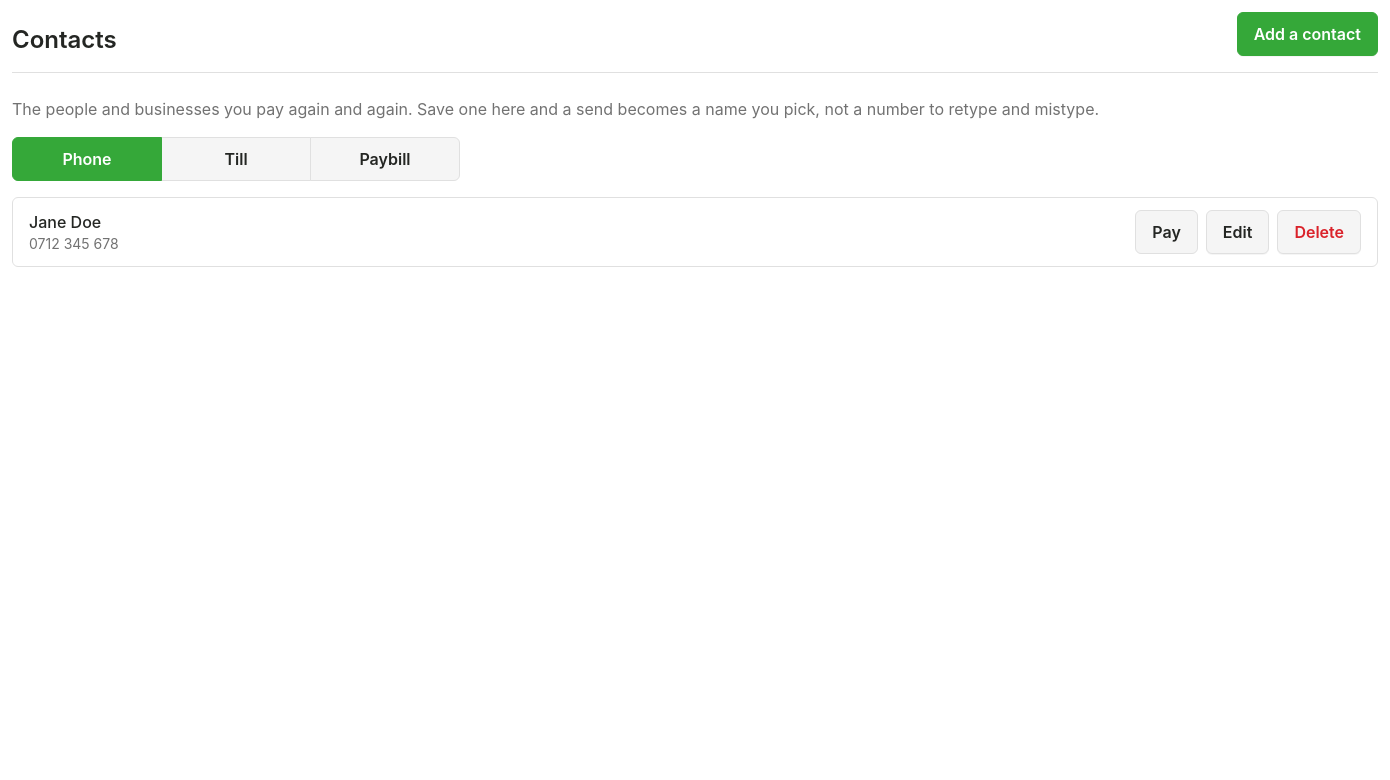
Test case: Contacts › shows the server refusal when the name is already taken
The width and height of the screenshot is (1390, 780).
Expected: the text "Jane Doe" is shown, [29,212,101,232]
Step 1. Click the button "Add a contact" → (1307,34), box [1237,12,1378,56]
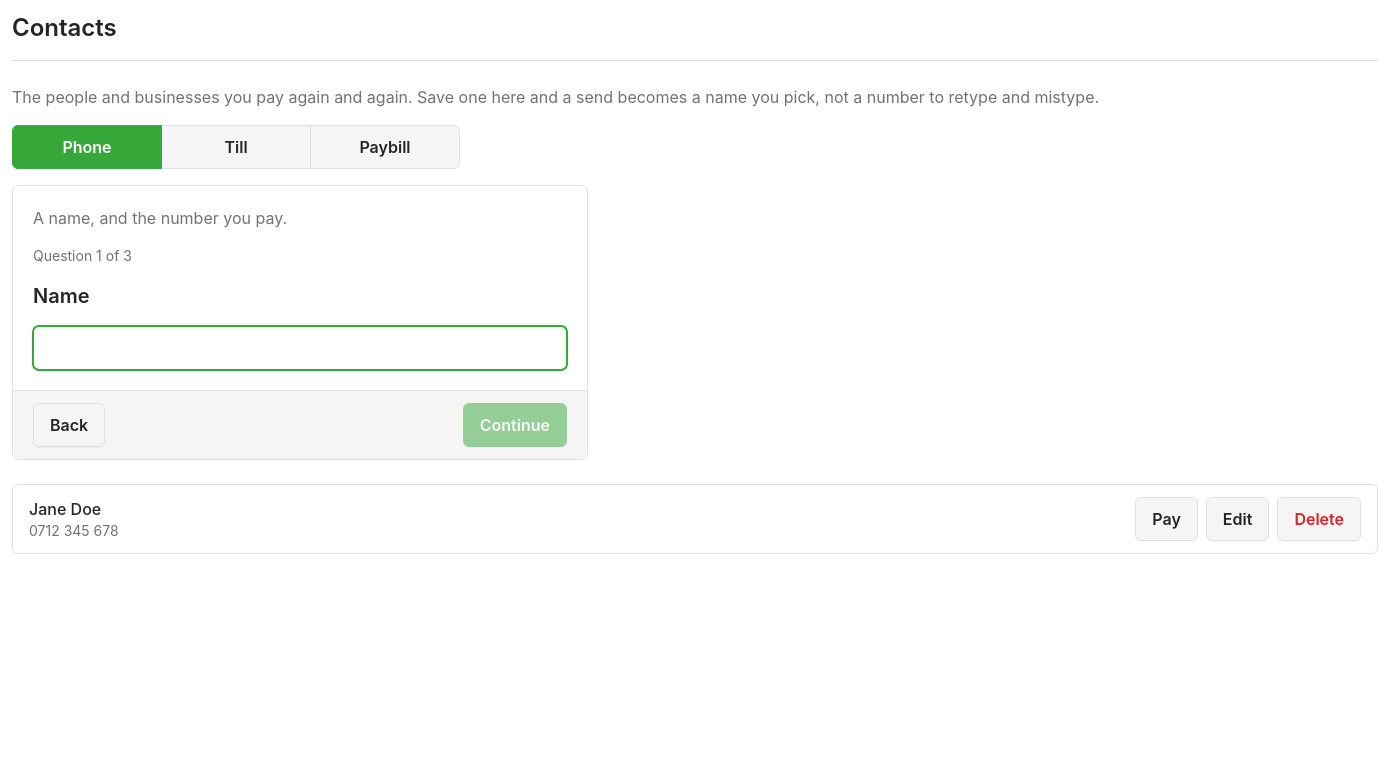
Step 2. Type "Jane Doe" into the field named "Name" → (300,348), box [33,326,567,370]
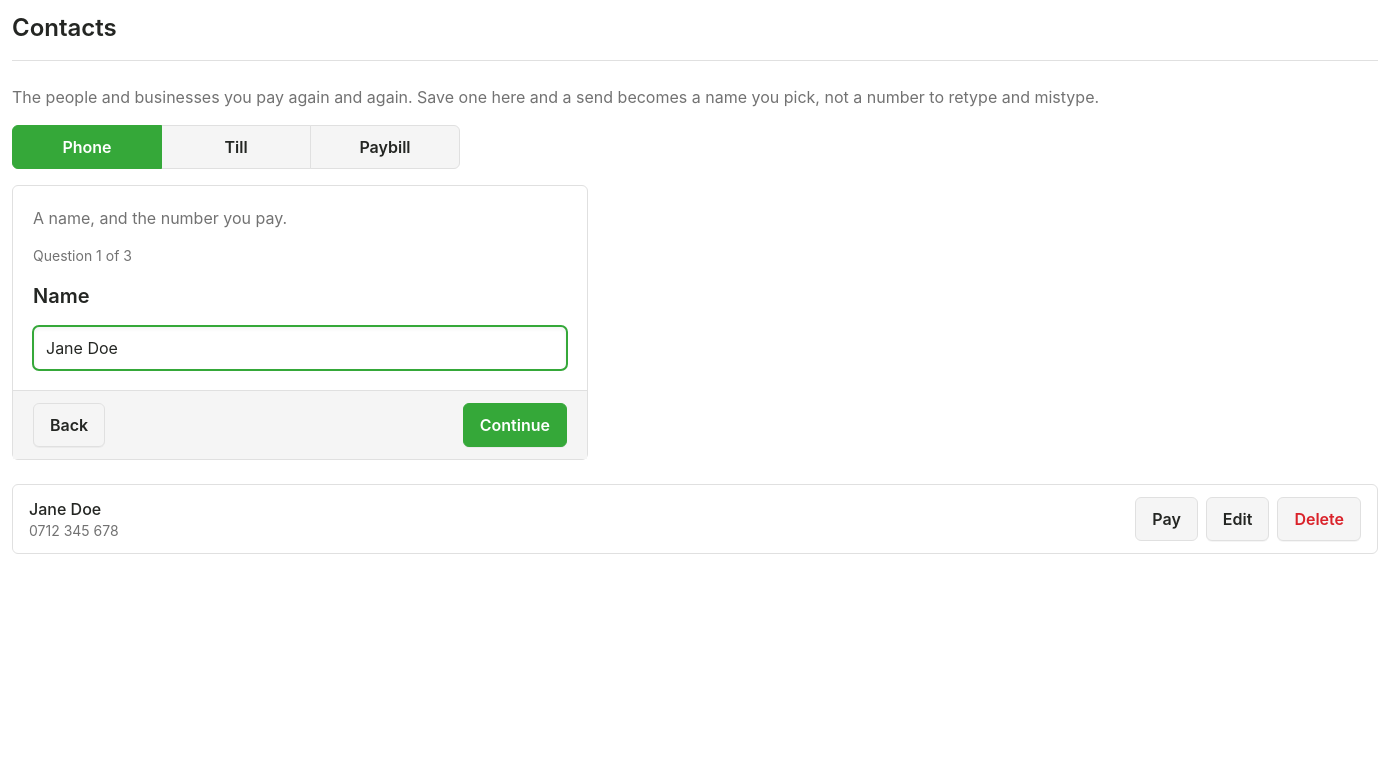
Step 3. Click the button "Continue" → (515,425), box [463,403,567,447]
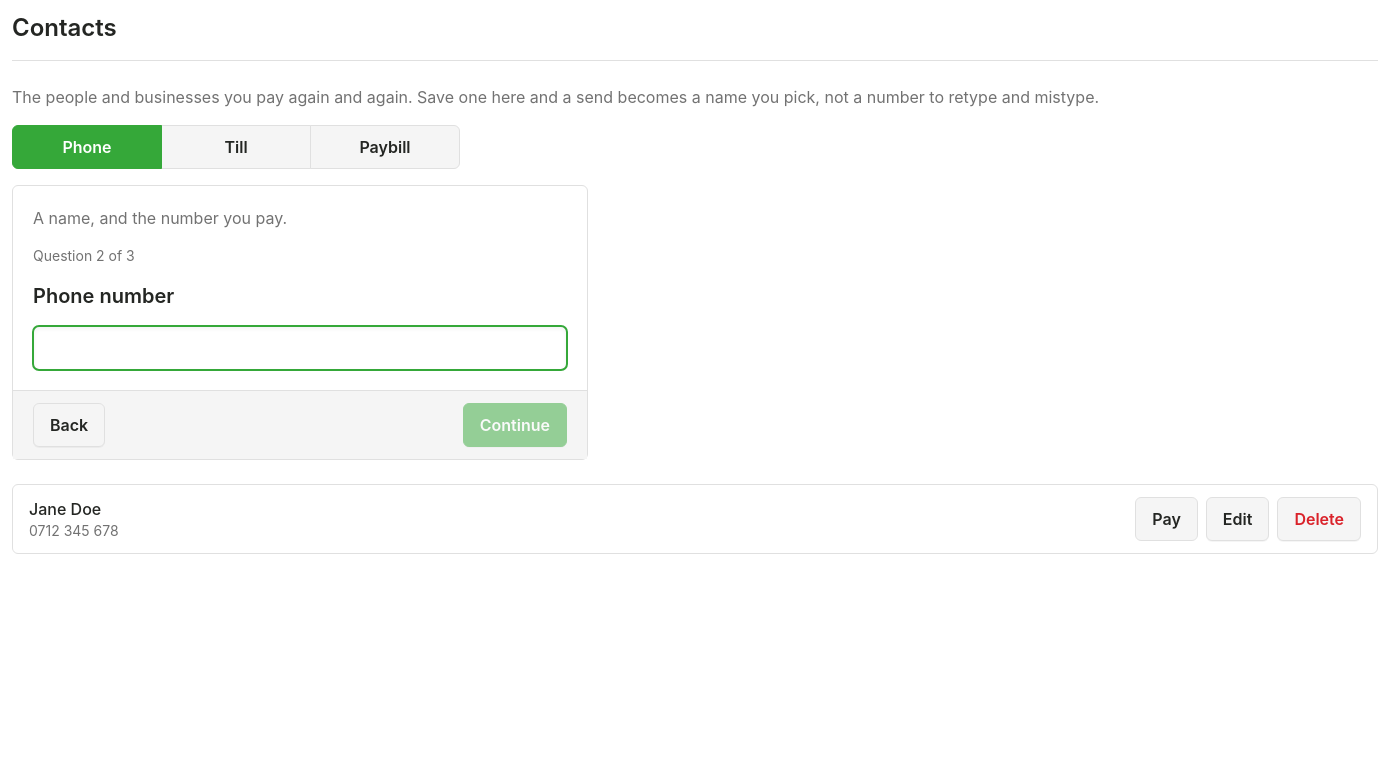
Step 4. Type "0712 000 111" into the field named "Phone number" → (300,348), box [33,326,567,370]
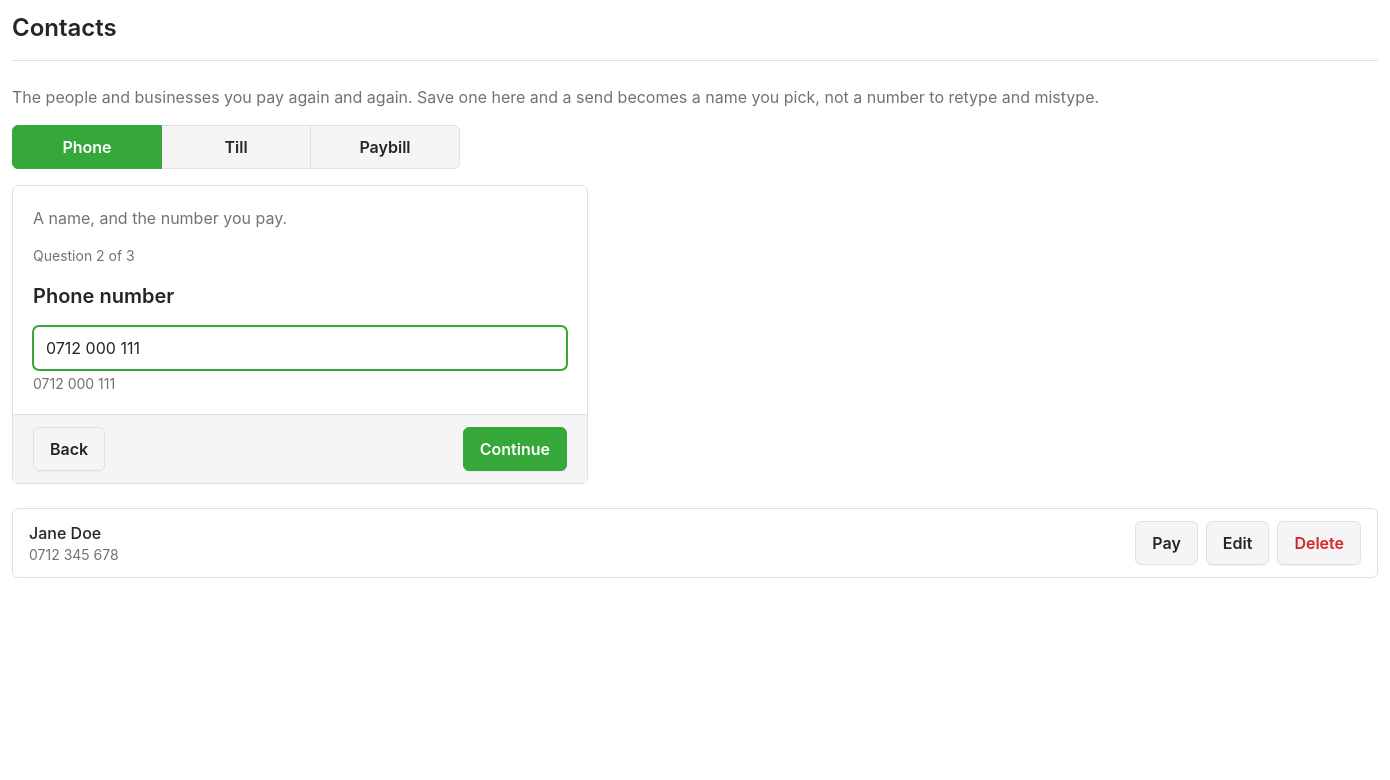
Step 5. Click the button "Continue" → (515,449), box [463,427,567,471]
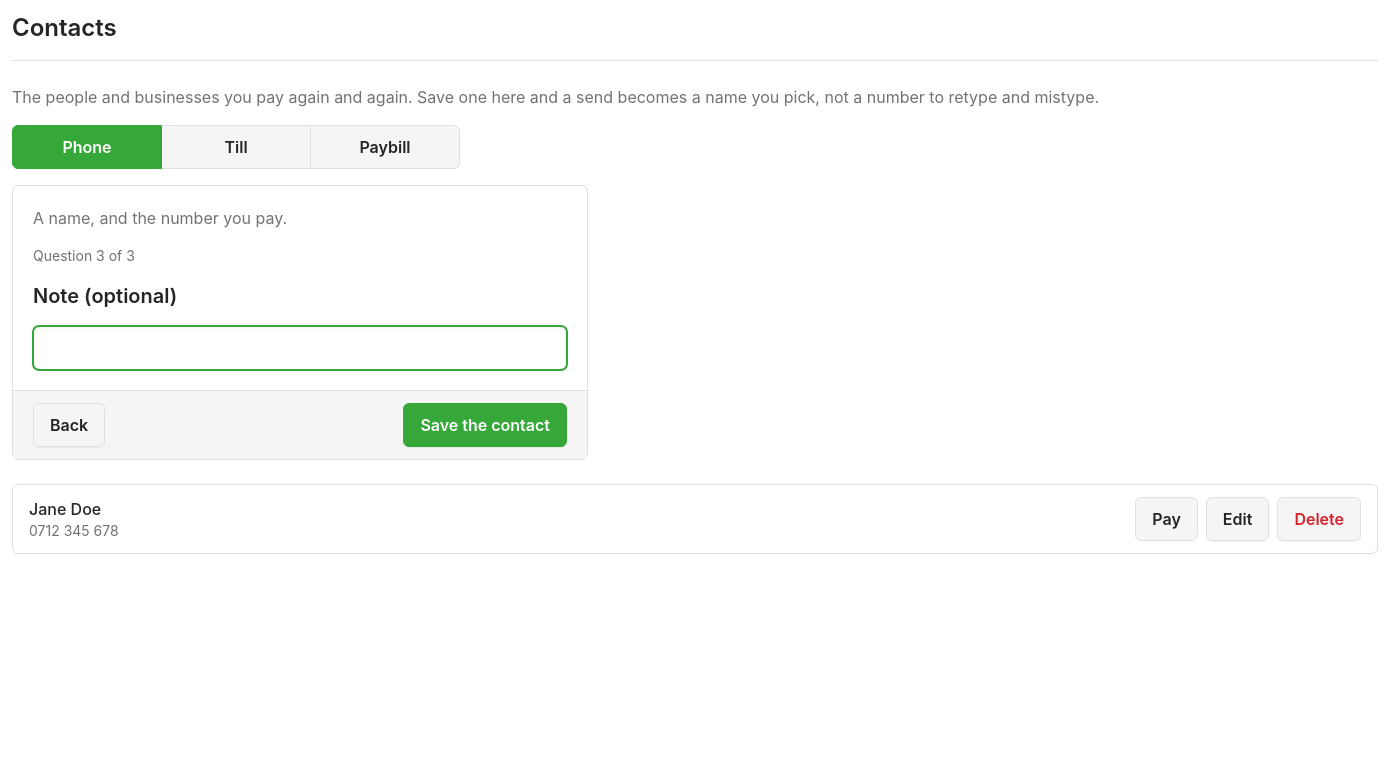
Step 6. Click the button "Save the contact" → (485,425), box [403,403,567,447]
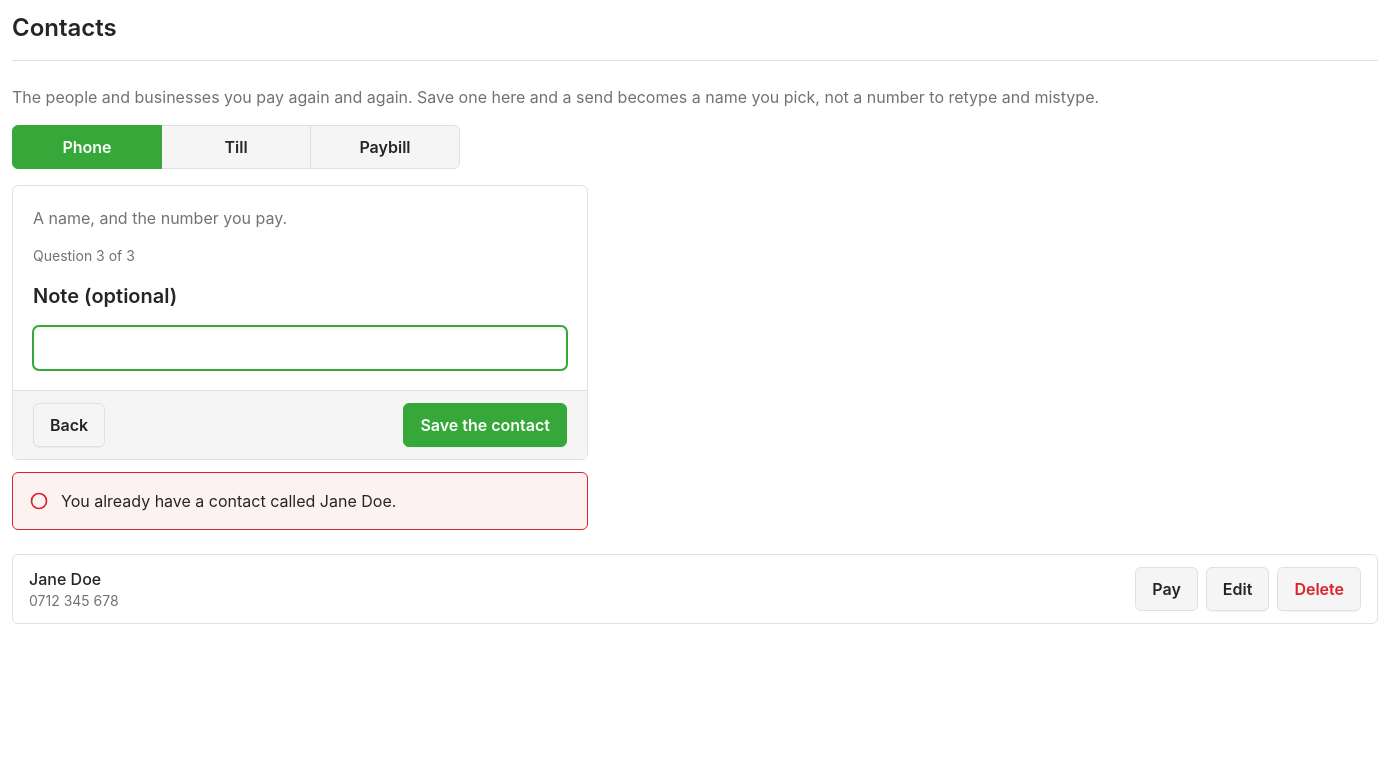
Now the message reads "You already have a contact called Jane Doe.", box [61,491,396,511]
